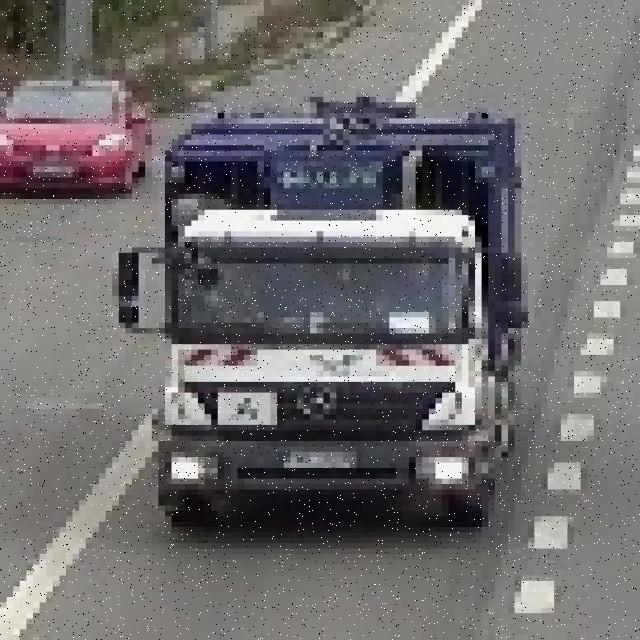truck: (119, 102, 534, 527)
